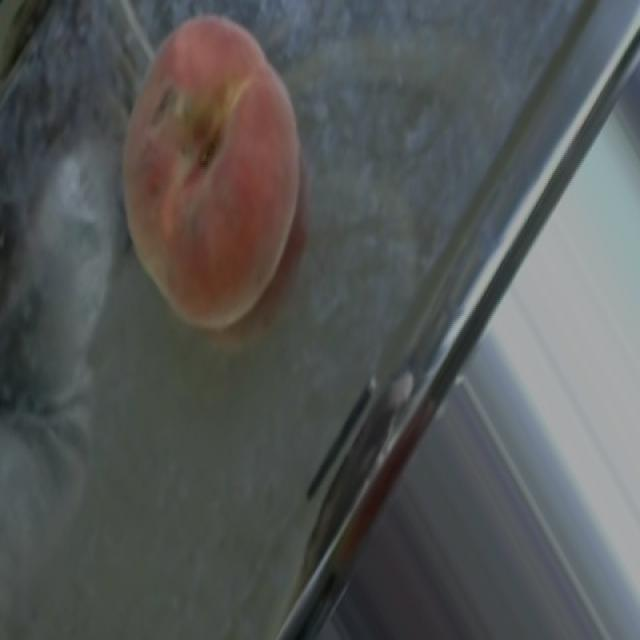Fruit: (72, 0, 328, 354)
